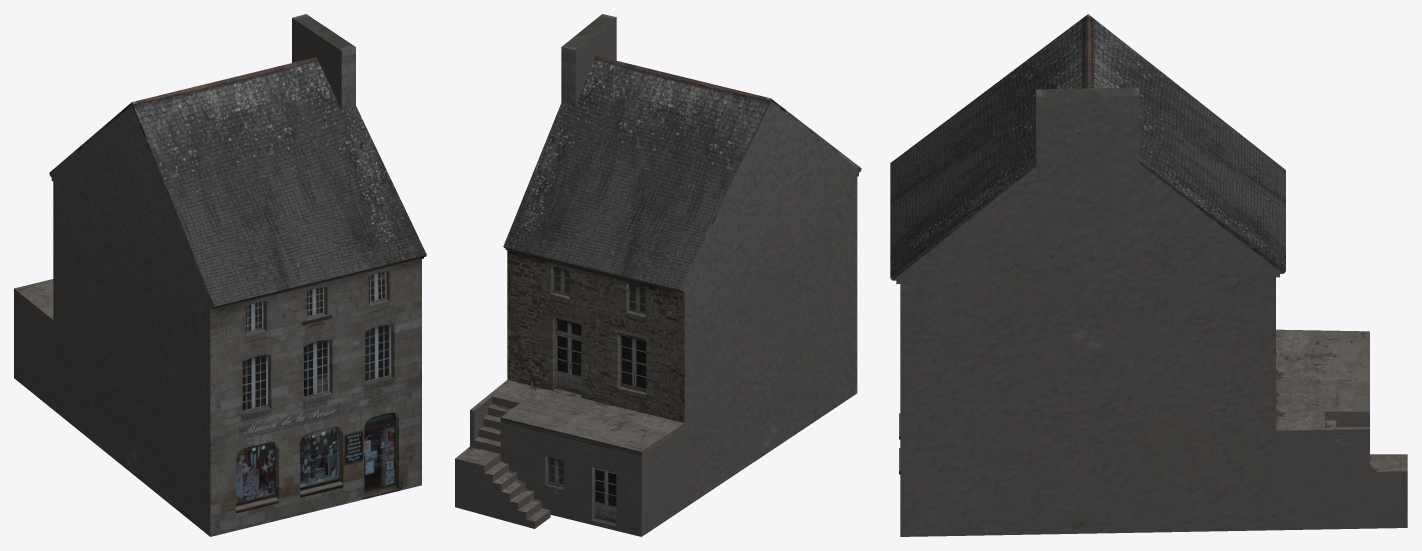
The model's file is chatelaudren_filler_shop_1_france.glb.
The picture shows the model from 3 angles, left to right: view 1: azimuth 30°, elevation 25°; view 2: azimuth 150°, elevation 25°; view 3: azimuth 270°, elevation 25°; orthographic projection. The views are drawn at different scales.
Parts seen in each view (by area): view 1: chatelaudren; view 2: chatelaudren; view 3: chatelaudren.
Part boxes in pixels (x1,y1,x2,y2): chatelaudren: (14, 14, 426, 536); chatelaudren: (455, 14, 861, 536); chatelaudren: (890, 14, 1407, 536).
Size of the model in its own units: 7.22 by 12.9 by 13.75.
Materials: 1 (1 with a texture image).
